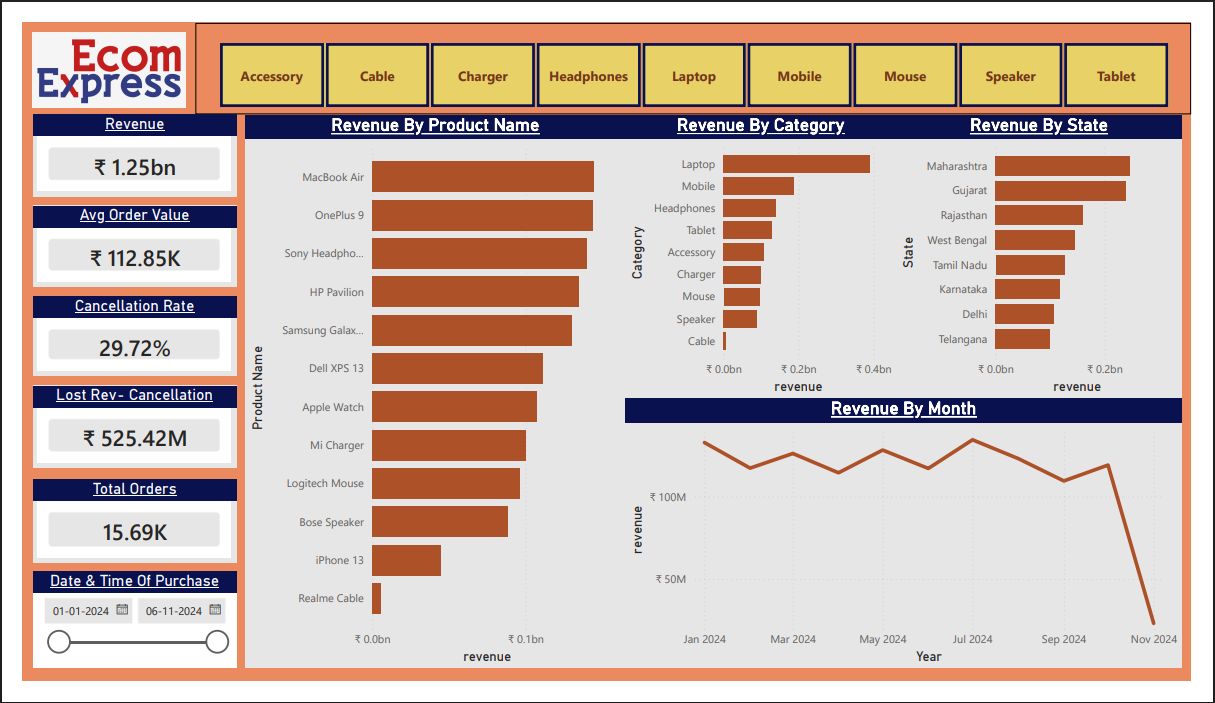

This screenshot's page, from the dashboard's own definition file:
{"tool":"powerbi","page":{"name":"Page 1","canvas":[1280,720],"ordinal":0},"visuals":[{"type":"image","box":[11,2.7,167.4,97.4],"z":1000},{"type":"barChart","title":"Revenue By Product Name","fields":{"Y":["table.revenue"],"Category":["Products.Product Name"]},"box":[244.3,100,415.7,605.7],"z":3000},{"type":"barChart","title":"Revenue By Category","fields":{"Y":["table.revenue"],"Category":["Products.Category"]},"box":[660,100,297.1,310],"z":4000},{"type":"lineChart","title":"Revenue By Month","fields":{"Category":["Orders.Date and time of purchase.Variation.Date Hierarchy.Year","Orders.Date and time of purchase.Variation.Date Hierarchy.Quarter","Orders.Date and time of purchase.Variation.Date Hierarchy.Month","Orders.Date and time of purchase.Variation.Date Hierarchy.Day"],"Y":["table.revenue"]},"box":[660,410,610,295.7],"z":5000},{"type":"barChart","title":"Revenue By State","fields":{"Category":["Customers.State"],"Y":["table.revenue"]},"box":[957.1,100,312.9,310],"z":6000},{"type":"slicer","fields":{"Values":["Products.Category"]},"box":[188.6,0,1091.4,100],"z":7000},{"type":"cardVisual","title":"Revenue","fields":{"Data":["table.revenue"]},"box":[11.4,100,222.9,90],"z":8000},{"type":"cardVisual","title":"Cancellation Rate","fields":{"Data":["table.Cancellation Rate"]},"box":[11.4,298.6,222.9,87.1],"z":9000},{"type":"cardVisual","title":"Avg Order Value","fields":{"Data":["table.Avg_Order_Value"]},"box":[11.4,200,222.9,88.6],"z":10000},{"type":"cardVisual","title":"Lost Rev- Cancellation","fields":{"Data":["table.cancellation_rev"]},"box":[11.4,397.1,222.9,90],"z":11000},{"type":"cardVisual","title":"Total Orders","fields":{"Data":["CountNonNull(Orders.OrderID)"]},"box":[11.4,498.6,222.9,91.4],"z":12000},{"type":"slicer","title":"Date & Time Of Purchase","fields":{"Values":["Orders.Date and time of purchase"]},"box":[11.4,600,222.9,105.7],"z":13000}]}

Visuals, with their boxes in screenshot pixels (x1, y1, x2, y2), scaled from the page's 1280x720 canvas onto the 1215x703 screenshot:
image: (10,3,169,98)
"Revenue By Product Name" barChart: (232,98,626,689)
"Revenue By Category" barChart: (626,98,908,400)
"Revenue By Month" lineChart: (626,400,1206,689)
"Revenue By State" barChart: (908,98,1206,400)
slicer - Products.Category: (179,0,1214,98)
"Revenue" cardVisual: (11,98,222,186)
"Cancellation Rate" cardVisual: (11,292,222,377)
"Avg Order Value" cardVisual: (11,195,222,282)
"Lost Rev- Cancellation" cardVisual: (11,388,222,476)
"Total Orders" cardVisual: (11,487,222,576)
"Date & Time Of Purchase" slicer: (11,586,222,689)
